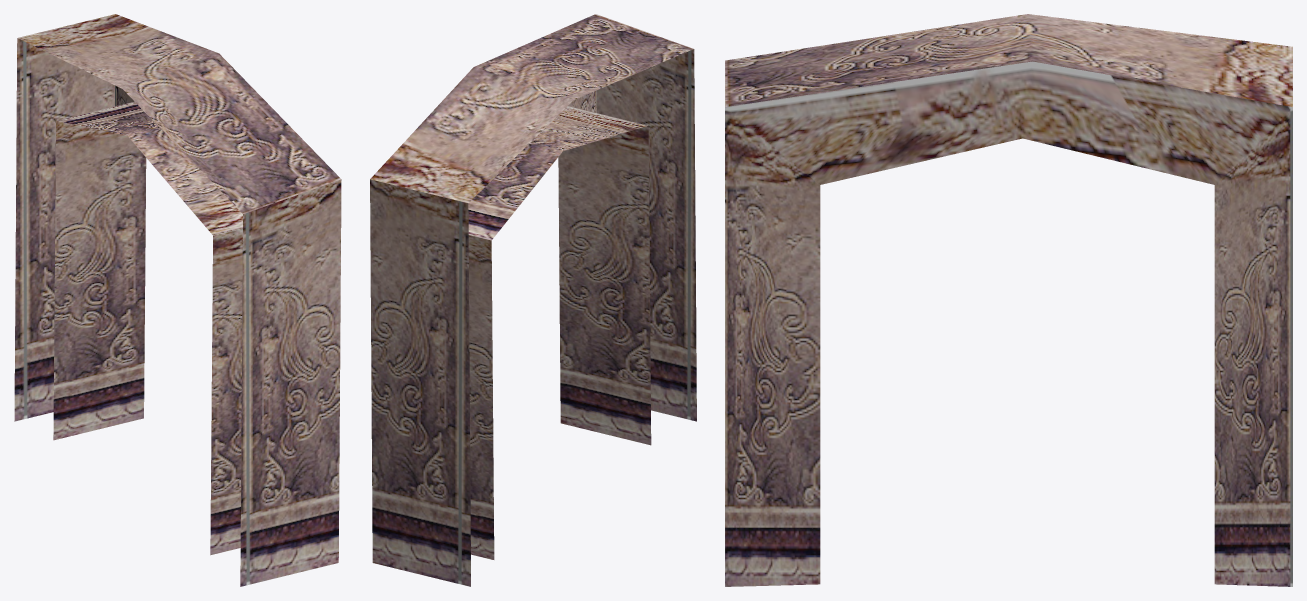
File: men03.obj
The picture shows the model from 3 angles, left to right: view 1: azimuth 30°, elevation 25°; view 2: azimuth 150°, elevation 25°; view 3: azimuth 270°, elevation 25°; orthographic projection. The views are drawn at different scales.
Parts seen in each view (by area): view 1: men03; view 2: men03; view 3: men03.
Boxes of the visible parts, bbox=[...] form: men03: bbox=[14, 14, 341, 586]; men03: bbox=[370, 14, 696, 586]; men03: bbox=[725, 14, 1292, 586].
Bounding box in the file's own units: 33 × 131 × 128.
